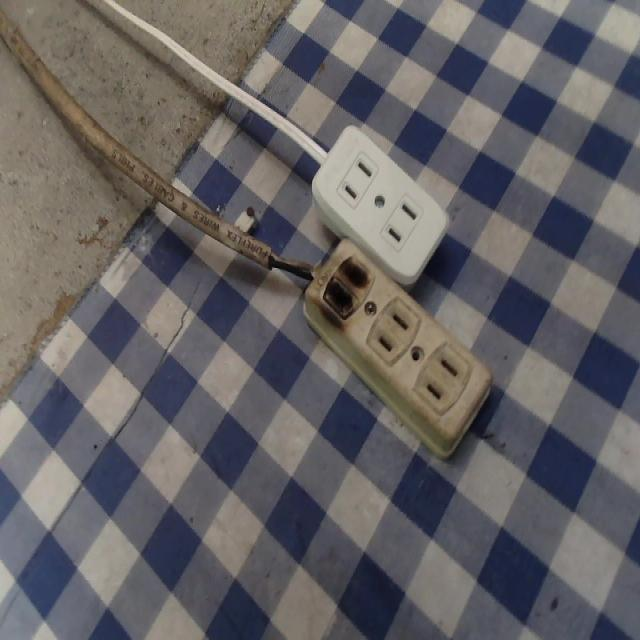-: (294, 238, 382, 326)
